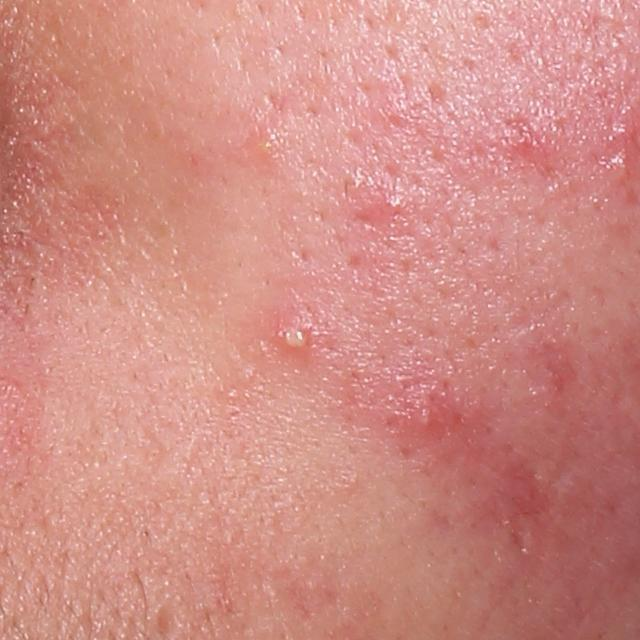papule: (362, 178, 422, 232)
pustule: (273, 320, 310, 362)
